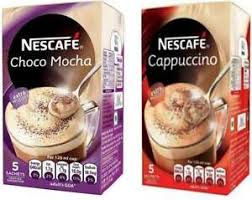nescafe-cappe-med: (139, 3, 250, 185)
